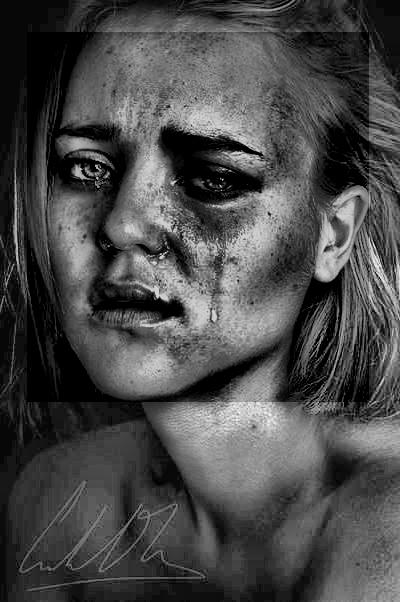sad: (28, 32, 370, 403)
